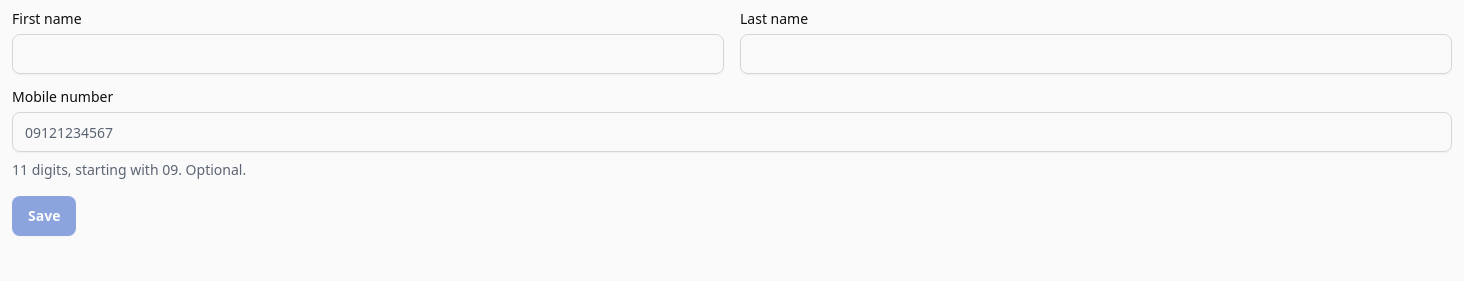
Test: PersonalForm › shows a field error for an invalid mobile number and does not save
In the field labelled "Mobile number": (732, 132) [12,112,1452,152], type "12345"
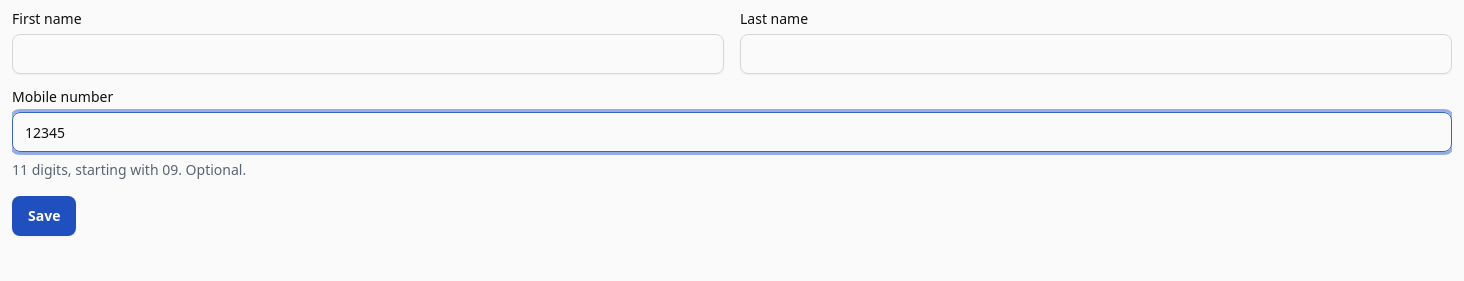
Click the button "Save": (44, 216) [12,196,76,236]
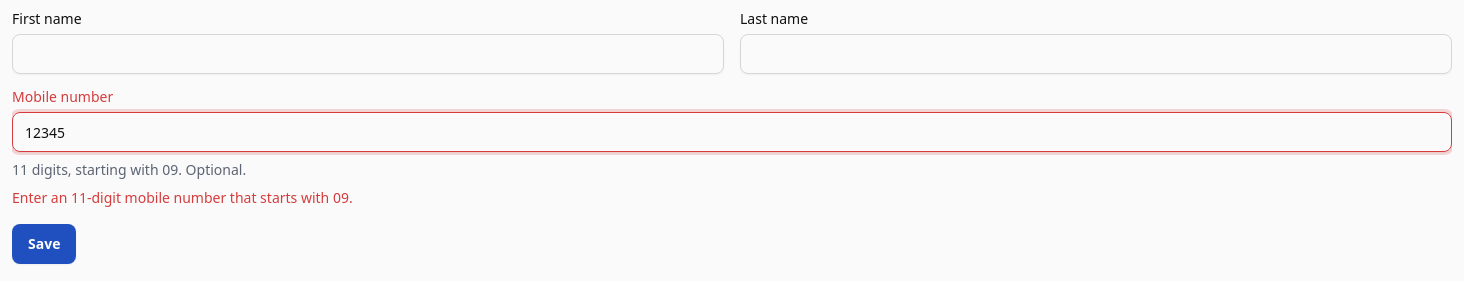
Expected: the text "Enter an 11-digit mobile number that starts with 09." is shown, [12,188,353,207]
